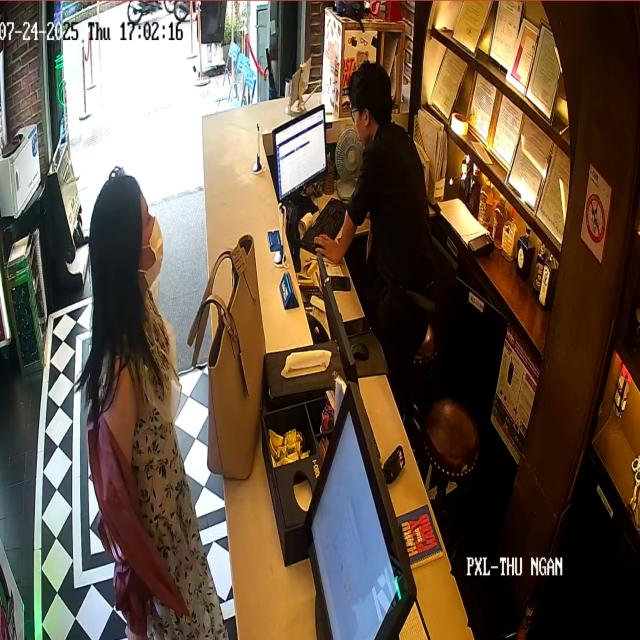khach: (73, 163, 267, 635)
nhan vien: (341, 80, 434, 362)
